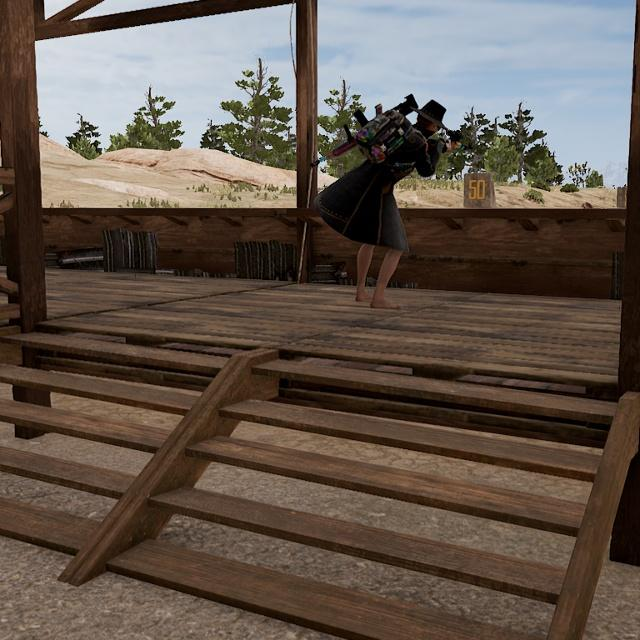head: (414, 98, 446, 140)
people: (353, 98, 448, 312)
